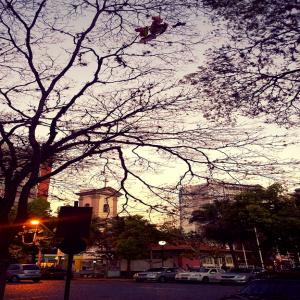Vehicle-registration-plate: (181, 277, 189, 279)
